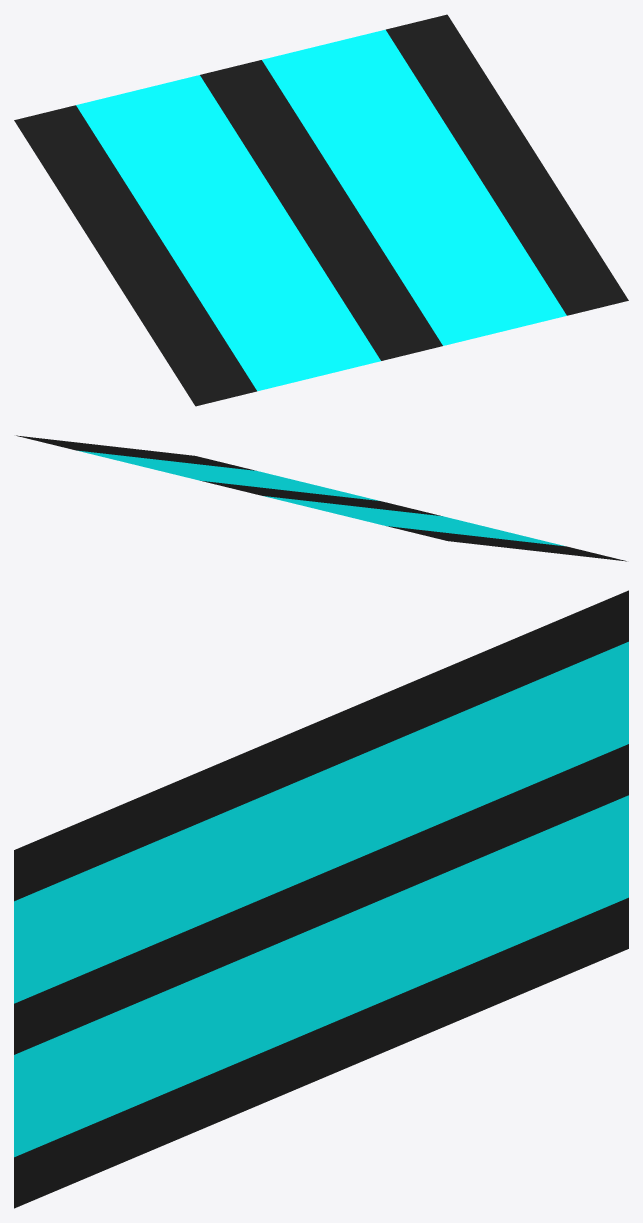
Rendered from RaceTrack_Up25Degree_4m 1.fbx.
The picture shows the model from 3 angles, top to bottom: view 1: azimuth 30°, elevation 25°; view 2: azimuth 150°, elevation 25°; view 3: azimuth 270°, elevation 25°; orthographic projection. The views are drawn at different scales.
Parts seen in each view (by area): view 1: Up25Degree_4m; view 2: Up25Degree_4m; view 3: Up25Degree_4m.
Boxes of the visible parts, x1,y1,x2,y2 form: Up25Degree_4m: (14, 14, 628, 406); Up25Degree_4m: (16, 435, 626, 561); Up25Degree_4m: (14, 590, 628, 1208).
Size of the model in its own units: 5 by 1.69 by 3.63.
